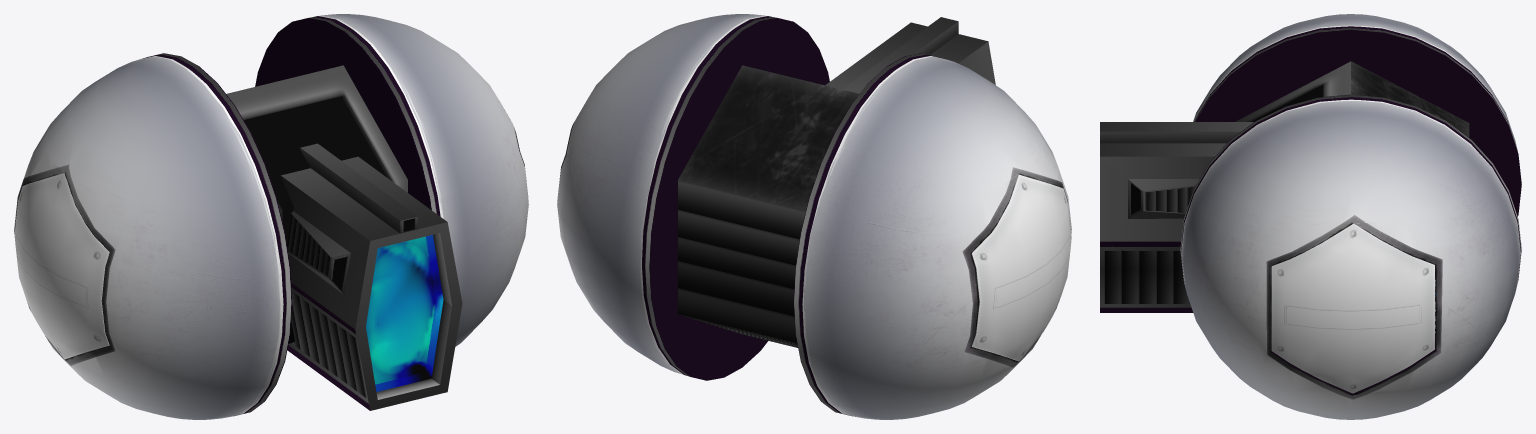
Rendered from Bit_center_wepone_close.FBX.
The picture shows the model from 3 angles, left to right: view 1: azimuth 30°, elevation 25°; view 2: azimuth 150°, elevation 25°; view 3: azimuth 270°, elevation 25°; orthographic projection. The views are drawn at different scales.
Visible parts, largest first — view 1: Sphere004, Cylinder016, Sphere005, Cylinder003, Cylinder015; view 2: Sphere004, Sphere005, Cylinder015, Cylinder003, Cylinder016; view 3: Sphere005, Cylinder009, Sphere004, Cylinder016, Cylinder015.
Part boxes in pixels (box(x1,y1,x2,y2)): Sphere004: box(14, 53, 292, 419); Cylinder016: box(281, 143, 462, 410); Sphere005: box(255, 14, 528, 346); Cylinder003: box(14, 173, 109, 359); Cylinder015: box(226, 65, 407, 343); Sphere004: box(793, 53, 1071, 419); Sphere005: box(557, 14, 829, 380); Cylinder015: box(678, 65, 859, 347); Cylinder003: box(971, 174, 1071, 360); Cylinder016: box(825, 17, 995, 93); Sphere005: box(1180, 94, 1521, 419); Cylinder009: box(1271, 223, 1434, 393); Sphere004: box(1193, 14, 1521, 216); Cylinder016: box(1100, 122, 1253, 312); Cylinder015: box(1235, 61, 1469, 333).
Bounding box in the file's own units: 45.3 × 31.5 × 38.89.
